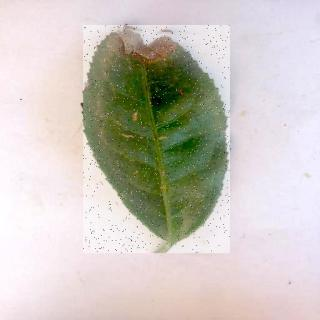Brown Blight: (85, 26, 232, 254)
